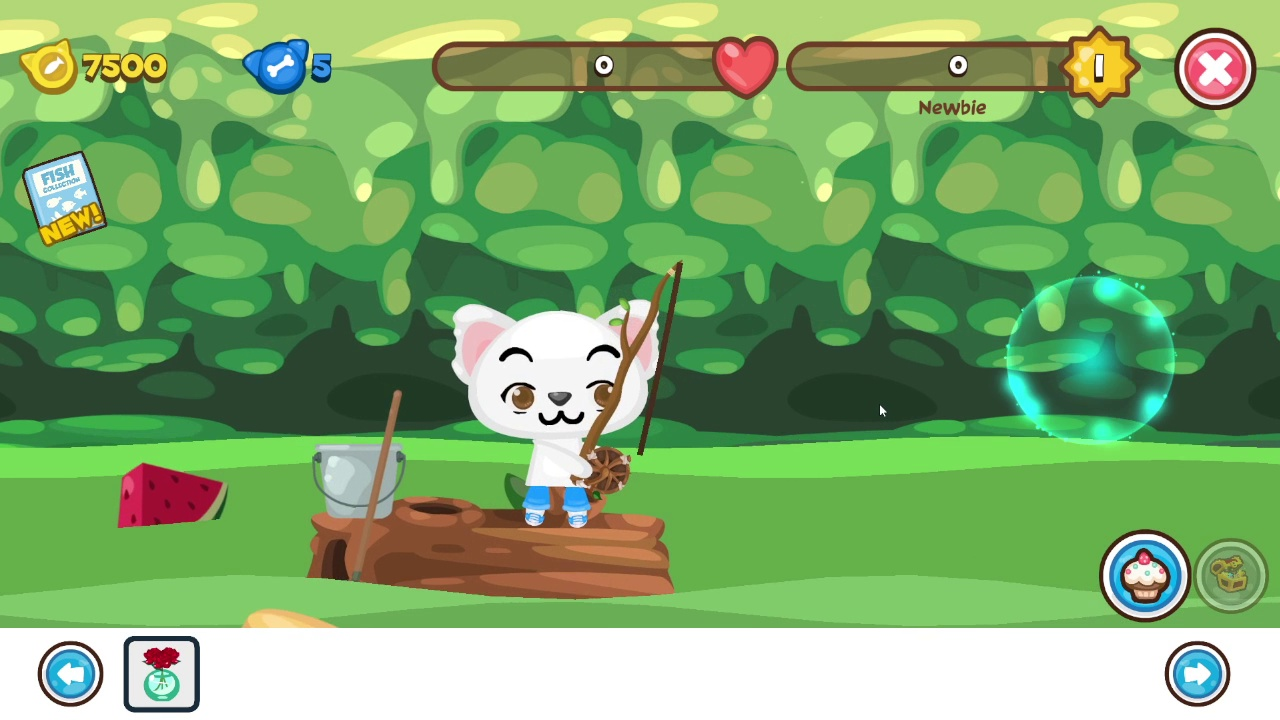point: (1005, 276, 1174, 443)
